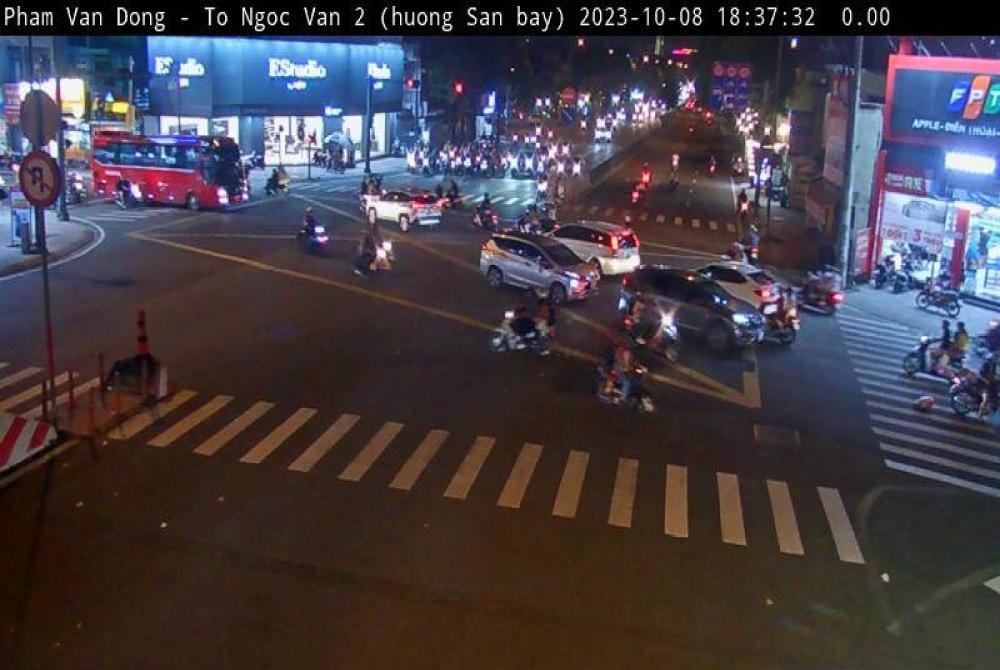bus: (72, 108, 248, 218)
car: (608, 258, 774, 363), (475, 220, 599, 310), (539, 207, 637, 275), (693, 247, 790, 306), (364, 187, 450, 243)
